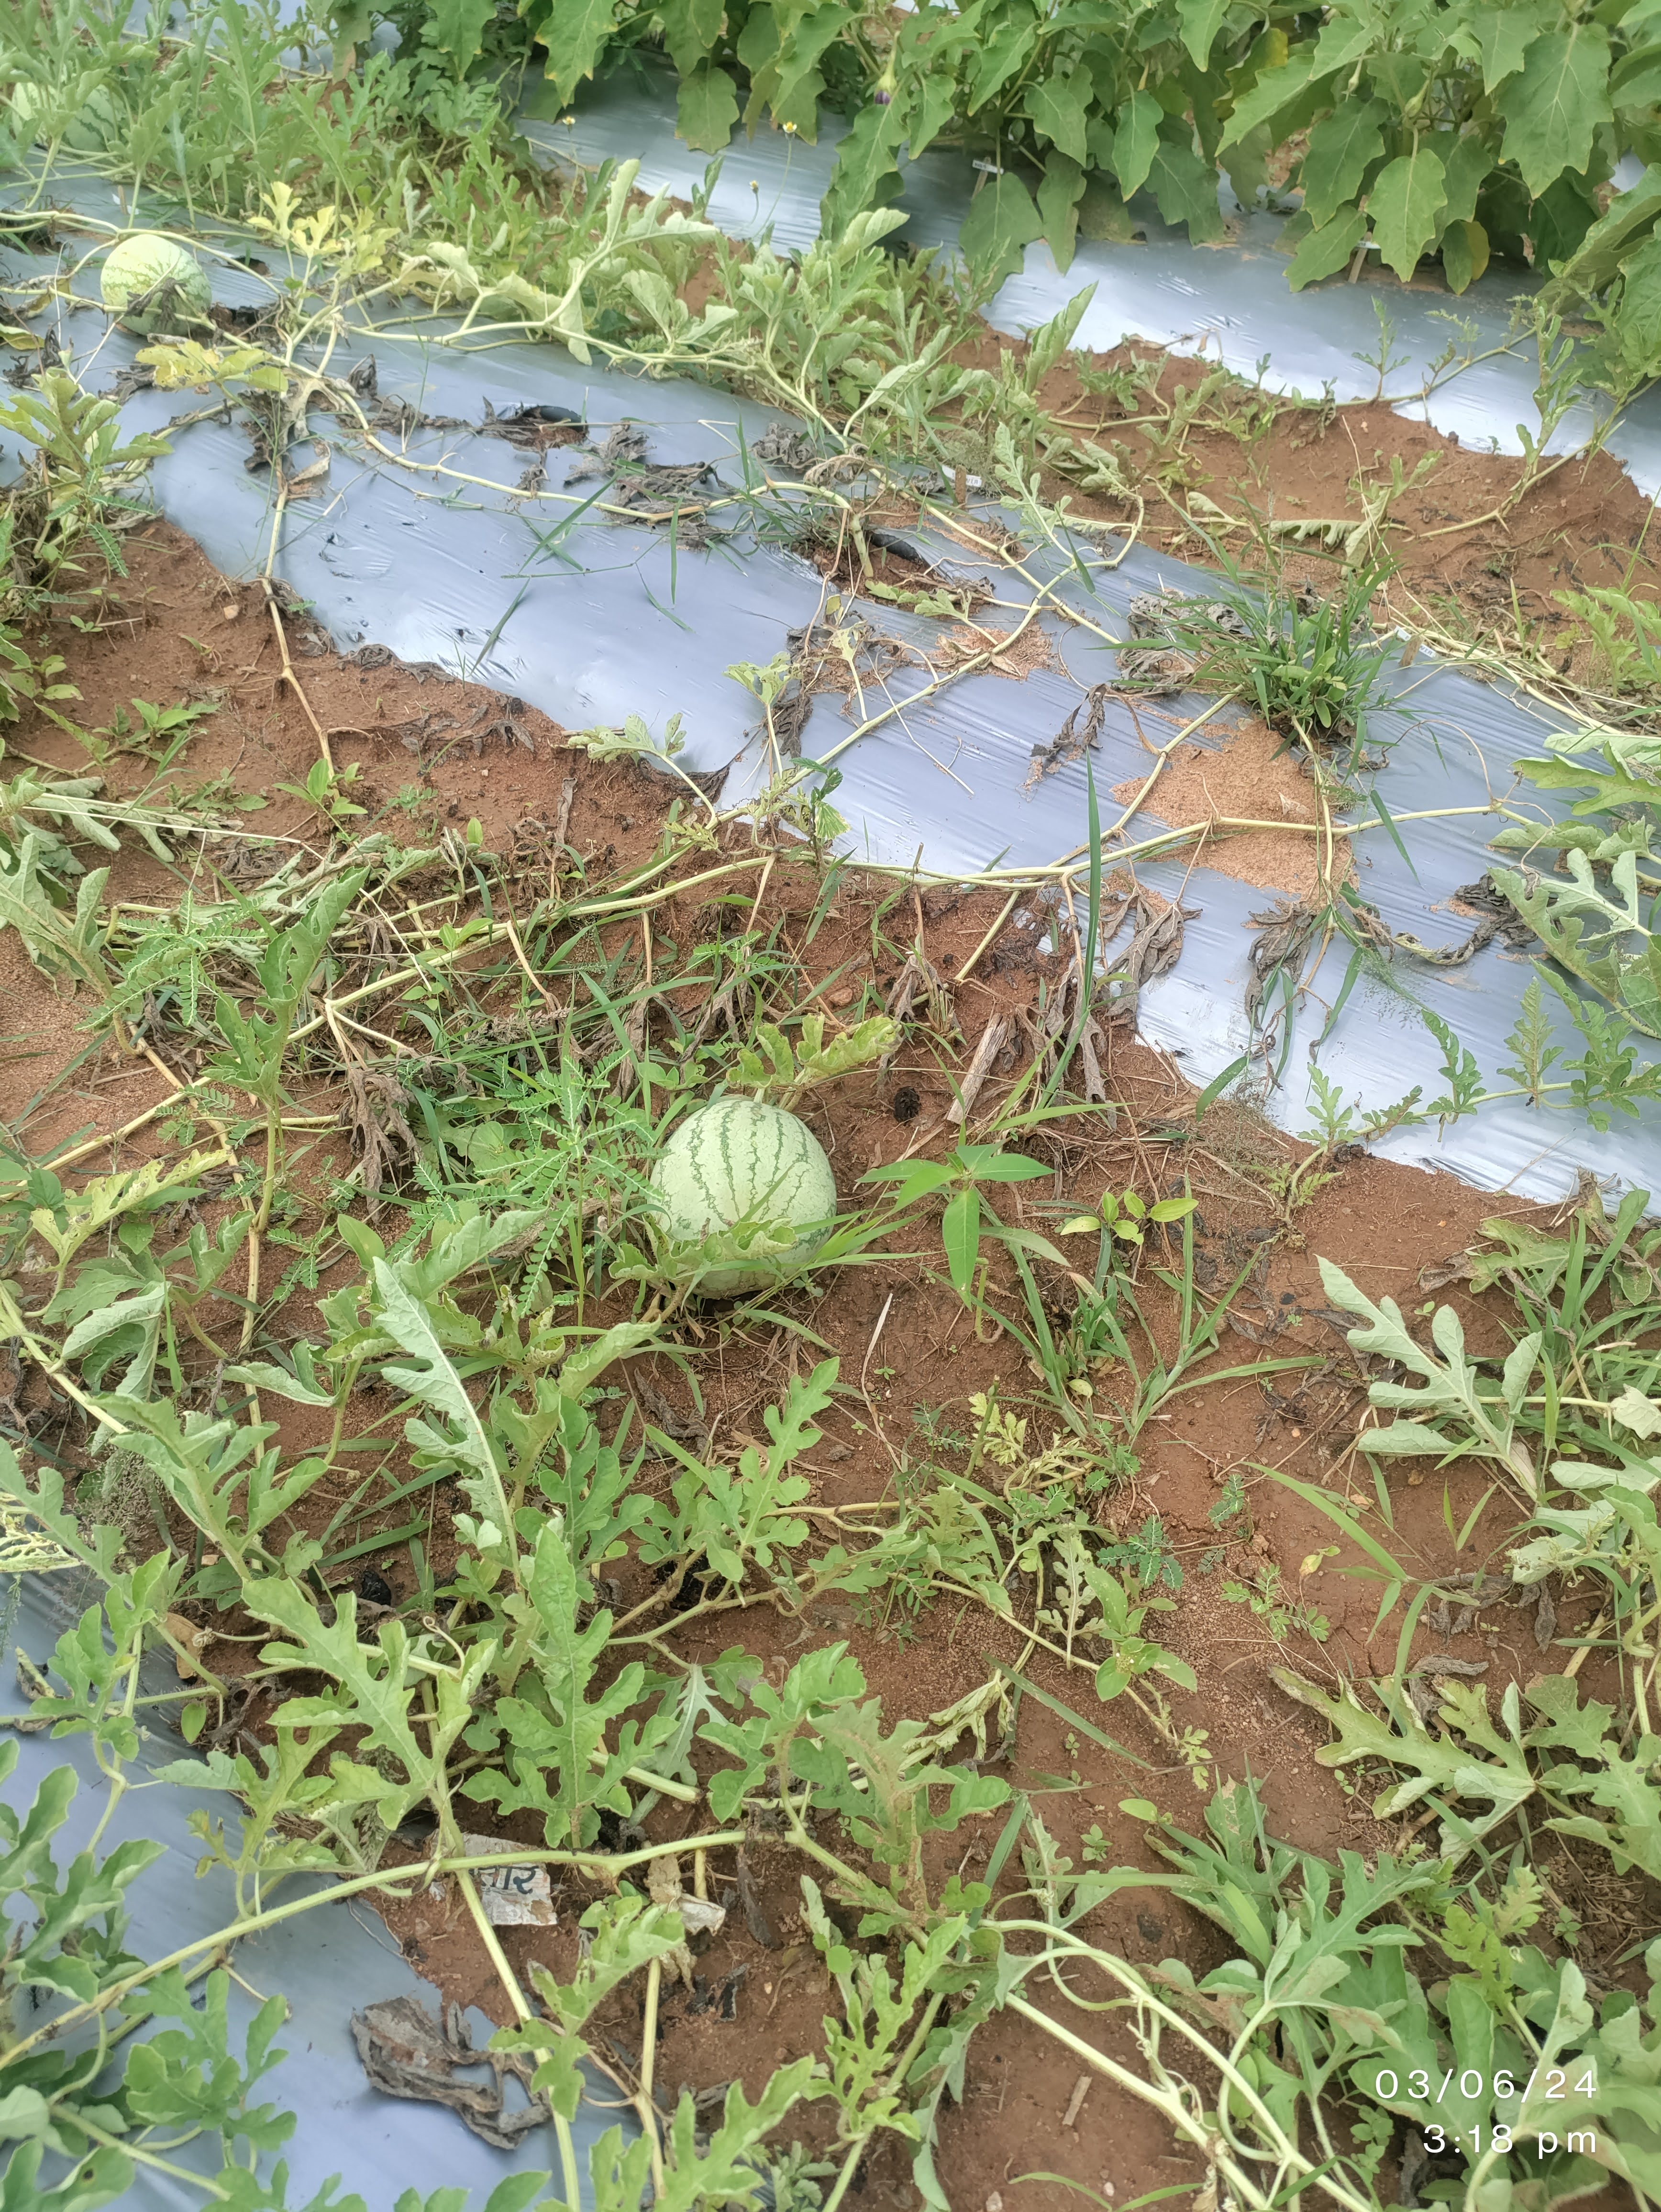good-to-harvest: (623, 1001, 928, 1347), (52, 185, 272, 344)
